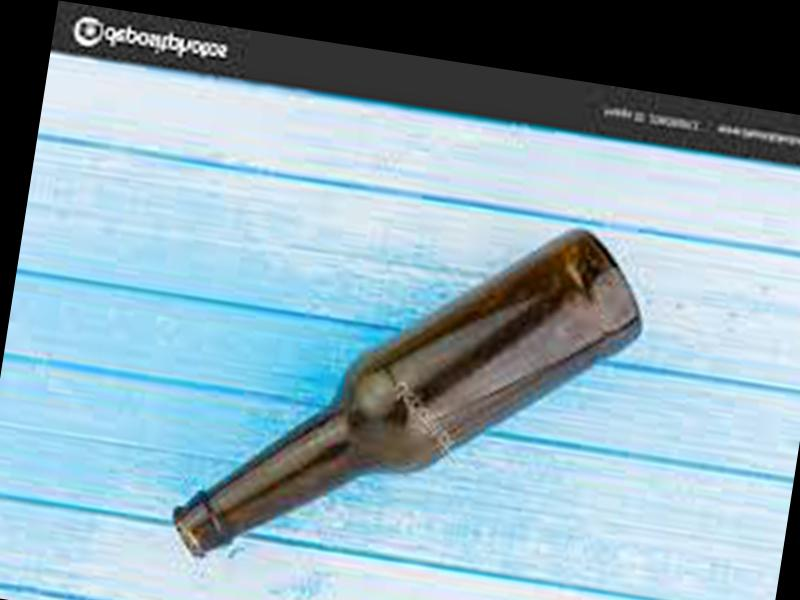Beer: (170, 168, 656, 600)
